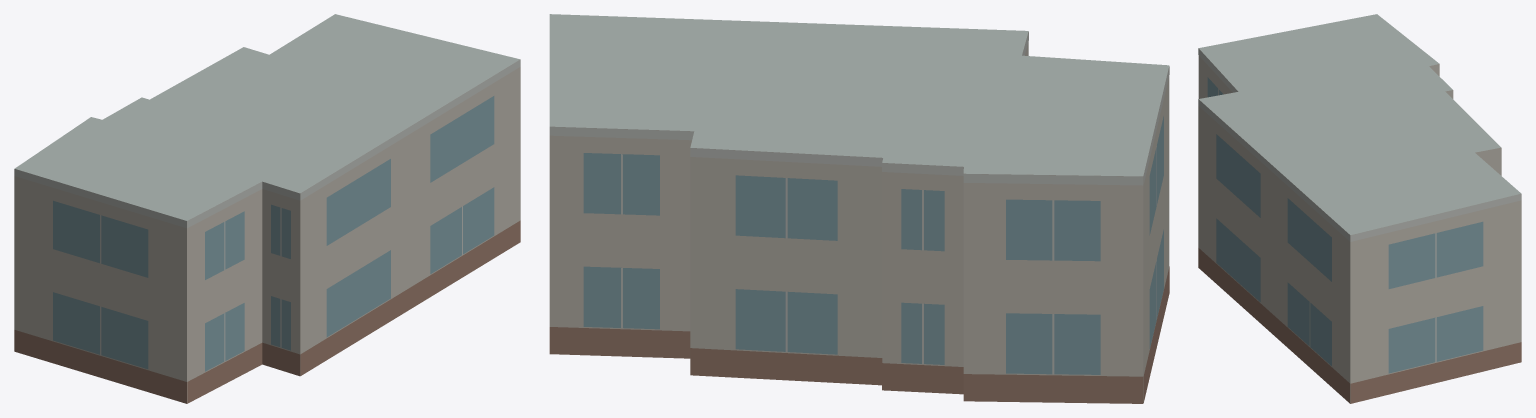
File: survey-upis-32741643.glb
The picture shows the model from 3 angles, left to right: view 1: azimuth 30°, elevation 25°; view 2: azimuth 150°, elevation 25°; view 3: azimuth 270°, elevation 25°; orthographic projection. The views are drawn at different scales.
Visible parts, largest first — view 1: survey-upis-32741643.tmp; view 2: survey-upis-32741643.tmp; view 3: survey-upis-32741643.tmp.
Part boxes in pixels (x1,y1,x2,y2): survey-upis-32741643.tmp: [14, 14, 520, 403]; survey-upis-32741643.tmp: [549, 14, 1169, 403]; survey-upis-32741643.tmp: [1198, 14, 1521, 403].
Bounding box in the file's own units: 17.17 × 6.1 × 10.6.
